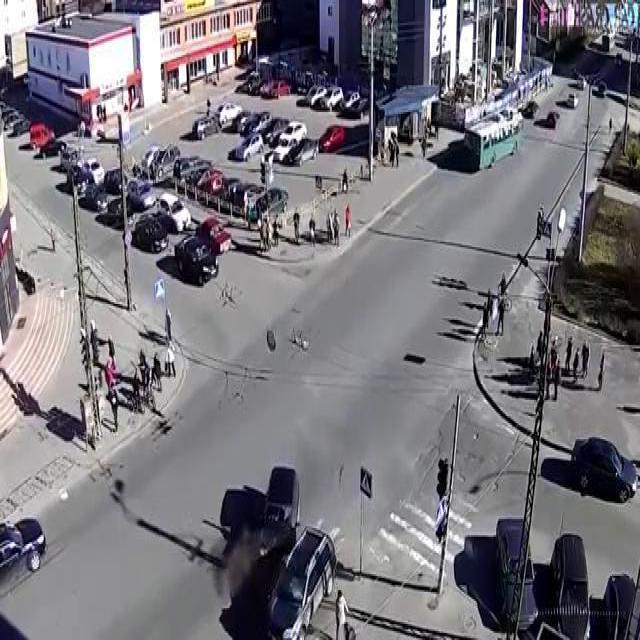multiple_accident: (214, 459, 331, 634)
normal: (35, 130, 253, 307)
